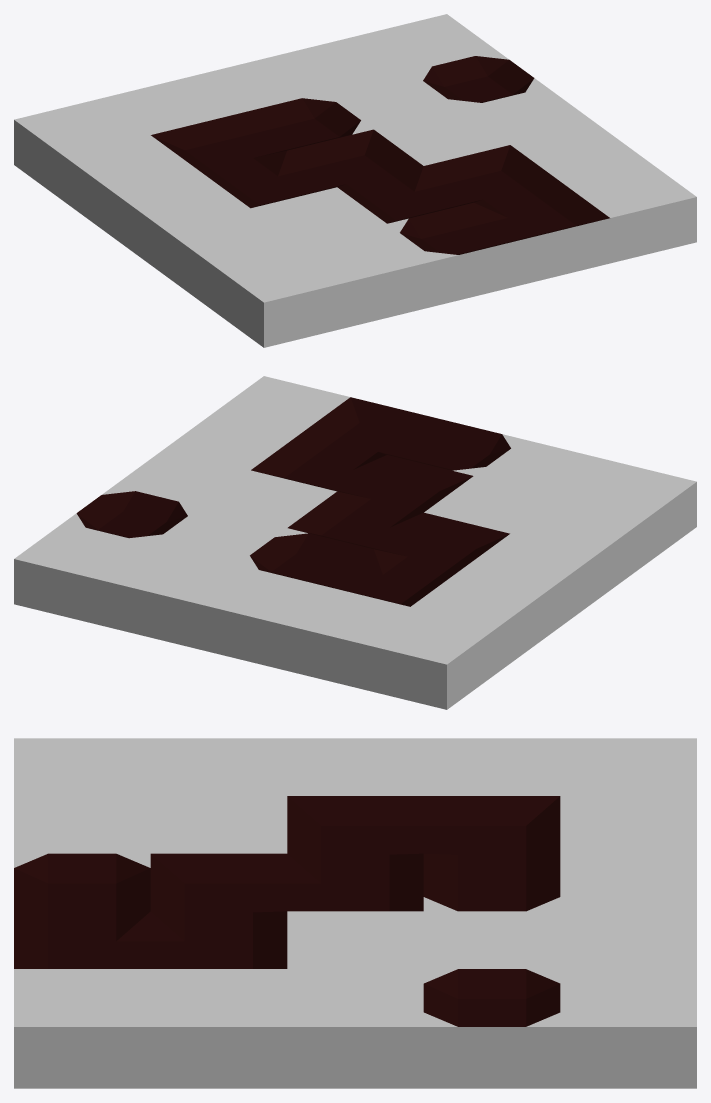
3 renders of one model, top to bottom at view 1: azimuth 30°, elevation 25°; view 2: azimuth 150°, elevation 25°; view 3: azimuth 270°, elevation 25°, orthographic. The views are drawn at different scales.
Visible parts, largest first — view 1: block.0.0_block.11391, block.1.0_block.11396, block.4.0_block.11403, corner.3.0_corner.3368, ending.2.0_ending.1341, block.0.2_block.11393, block.0.3_block.11394, block.0.4_block.11395, block.0.1_block.11392, corner.2.2_corner.3367, corner.3.1_corner.3369, ending.2.3_ending.1342 (+13 smaller); view 2: block.0.4_block.11395, block.3.4_block.11402, block.1.4_block.11398, block.4.4_block.11407, block.2.4_block.11399, block.0.0_block.11391, block.0.1_block.11392, block.0.2_block.11393, block.0.3_block.11394, corner.3.0_corner.3368, ending.2.3_ending.1342, corner.2.1_corner.3366 (+13 smaller); view 3: block.4.1_block.11404, block.4.3_Cube.025, block.4.0_block.11403, block.4.2_block.11405, block.4.4_block.11407, corner.2.1_corner.3366, ending.2.0_ending.1341, corner.1.3_corner.3365, corner.1.2_corner.3364, block.2.4_block.11399, block.0.1_block.11392, block.0.3_block.11394 (+13 smaller).
Part boxes in pixels (x1,y1,x2,y2): block.0.0_block.11391: (214, 245, 350, 347); block.1.0_block.11396: (301, 224, 437, 326); block.4.0_block.11403: (560, 160, 696, 263); corner.3.0_corner.3368: (474, 181, 610, 284); ending.2.0_ending.1341: (387, 202, 523, 305); block.0.2_block.11393: (114, 172, 249, 274); block.0.3_block.11394: (64, 135, 200, 237); block.0.4_block.11395: (14, 98, 149, 201); block.0.1_block.11392: (164, 208, 299, 310); corner.2.2_corner.3367: (287, 129, 423, 192); corner.3.1_corner.3369: (424, 145, 559, 208); ending.2.3_ending.1342: (237, 93, 373, 152); block.0.4_block.11395: (360, 607, 496, 709); block.3.4_block.11402: (100, 543, 236, 646); block.1.4_block.11398: (273, 586, 409, 688); block.4.4_block.11407: (14, 522, 150, 625); block.2.4_block.11399: (187, 564, 323, 667); block.0.0_block.11391: (561, 460, 696, 563); block.0.1_block.11392: (510, 497, 646, 599); block.0.2_block.11393: (461, 534, 596, 636); block.0.3_block.11394: (411, 570, 546, 672); corner.3.0_corner.3368: (301, 397, 436, 460); ending.2.3_ending.1342: (237, 528, 373, 587); corner.2.1_corner.3366: (338, 455, 473, 518); block.4.1_block.11404: (150, 969, 287, 1088); block.4.3_Cube.025: (423, 969, 560, 1088); block.4.0_block.11403: (14, 969, 150, 1088); block.4.2_block.11405: (287, 969, 423, 1088); block.4.4_block.11407: (560, 969, 696, 1088); corner.2.1_corner.3366: (150, 853, 287, 926); ending.2.0_ending.1341: (14, 853, 150, 926); corner.1.3_corner.3365: (423, 796, 560, 868); corner.1.2_corner.3364: (287, 796, 423, 868); block.2.4_block.11399: (560, 853, 696, 911); block.0.1_block.11392: (150, 738, 287, 795); block.0.3_block.11394: (423, 738, 560, 795).
Size of the model in its own units: 10 by 1 by 10.
